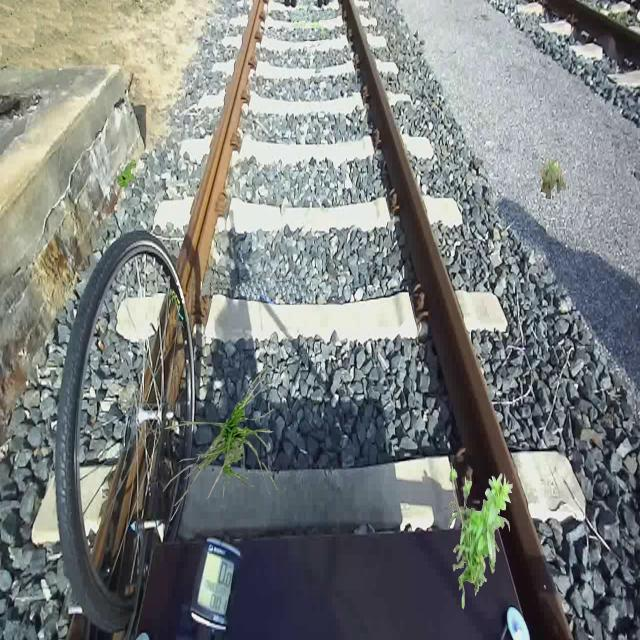Plant: (163, 359, 282, 522), (448, 466, 512, 610), (541, 157, 567, 200), (117, 159, 136, 192)
